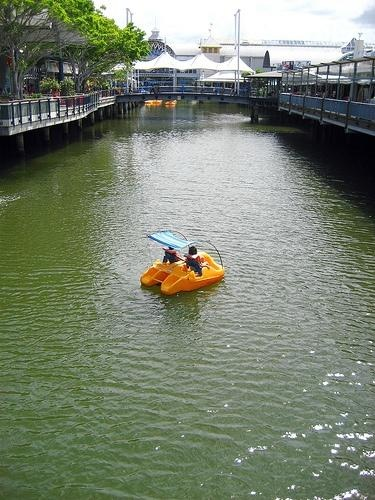boat: (136, 230, 230, 299)
